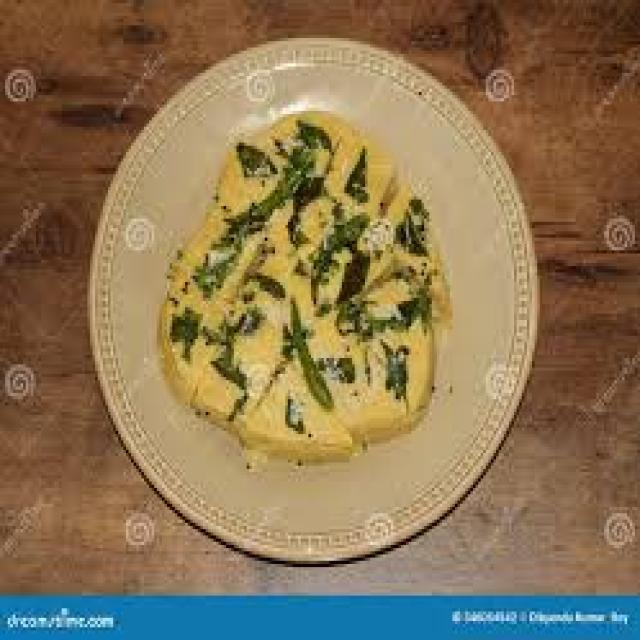DHOKLA: (150, 107, 431, 461)
